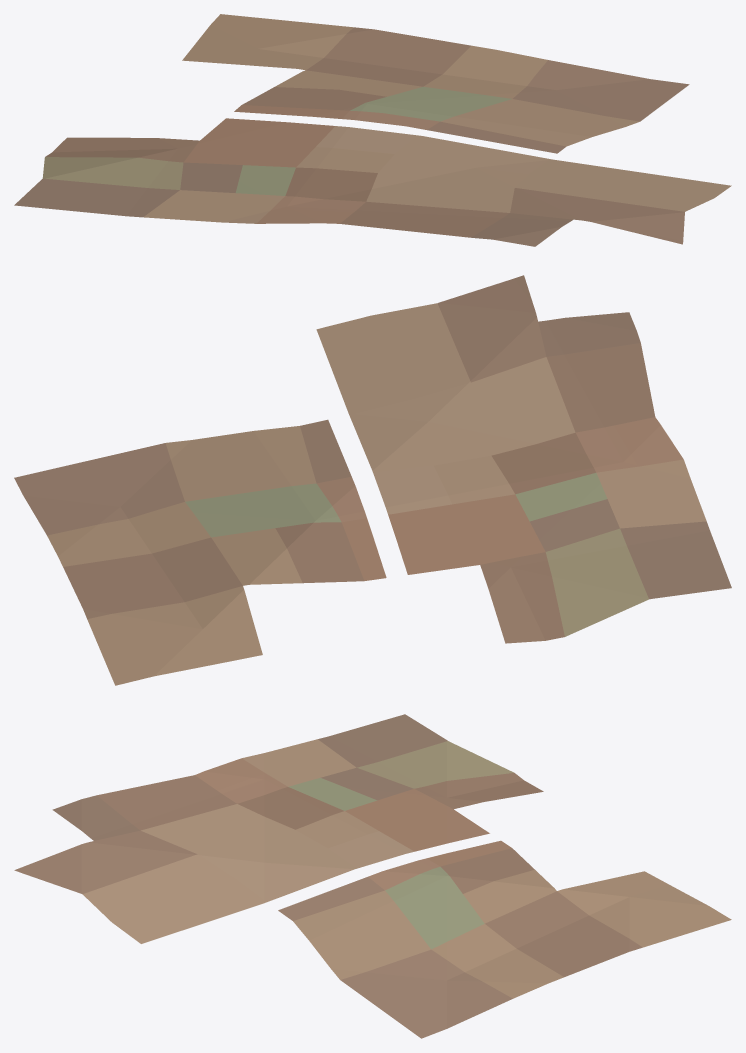
The model's file is farm_2_19_soil.glb.
The picture shows the model from 3 angles, top to bottom: view 1: azimuth 30°, elevation 25°; view 2: azimuth 150°, elevation 25°; view 3: azimuth 270°, elevation 25°; orthographic projection. The views are drawn at different scales.
Visible parts, largest first — view 1: geometry_0; view 2: geometry_0; view 3: geometry_0.
Part boxes in pixels (box(x1,y1,x2,y2)): geometry_0: box(14, 14, 731, 246); geometry_0: box(14, 275, 731, 685); geometry_0: box(14, 714, 731, 1038).
Size of the model in its own units: 290 by 36.83 by 315.
